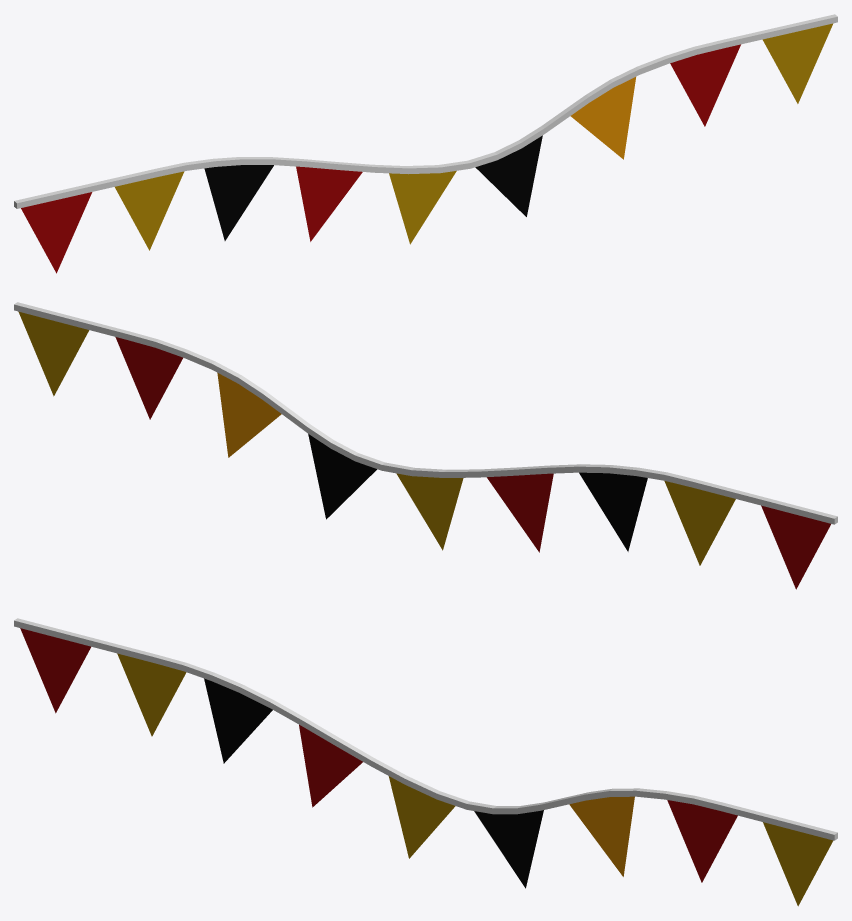
File: Fitas.fbx
3 views of the same model, one above another, from view 1: azimuth 30°, elevation 25°; view 2: azimuth 150°, elevation 25°; view 3: azimuth 330°, elevation 25° (orthographic). The views are drawn at different scales.
Visible parts, largest first — view 1: Fitas; view 2: Fitas; view 3: Fitas.
Part boxes in pixels (<box>): Fitas: <box>14,14,837,273</box>; Fitas: <box>14,302,837,589</box>; Fitas: <box>14,618,837,906</box>.
Size of the model in its own units: 1391 by 217 by 51.17.
